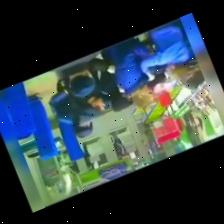person: (106, 37, 154, 107), (141, 21, 188, 79), (69, 58, 115, 116), (52, 50, 99, 96), (176, 18, 203, 88), (98, 70, 132, 111)
